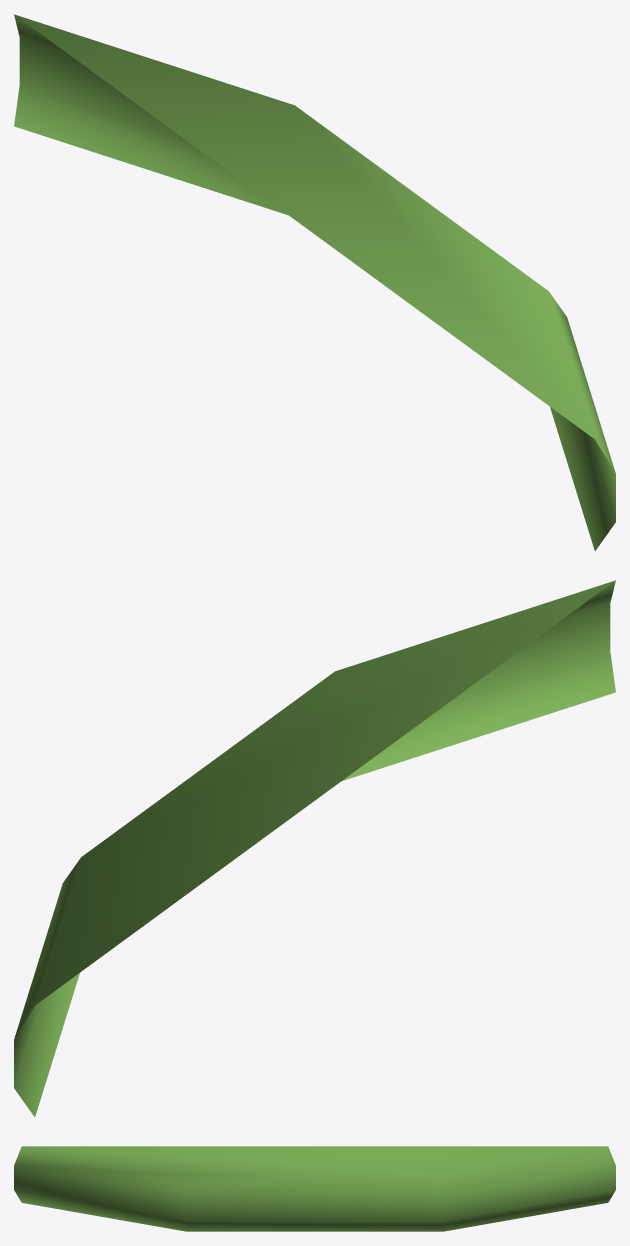
File: groundTileSide.glb
3 renders of one model, top to bottom at view 1: azimuth 30°, elevation 25°; view 2: azimuth 150°, elevation 25°; view 3: azimuth 270°, elevation 25°, orthographic. The views are drawn at different scales.
Visible parts, largest first — view 1: groundTileSide; view 2: groundTileSide; view 3: groundTileSide.
Part boxes in pixels (<box>): groundTileSide: <box>14,14,615,550</box>; groundTileSide: <box>14,580,615,1116</box>; groundTileSide: <box>14,1146,615,1231</box>.
Bounding box in the file's own units: 0.1351 × 0.1054 × 1.02.
Materials: 1 (1 with a texture image).
